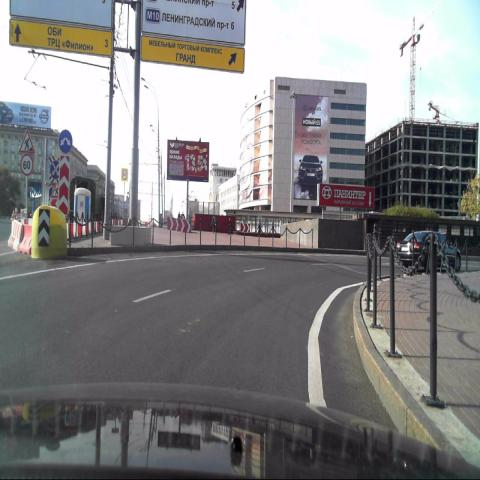1_25: (18, 129, 34, 153)
